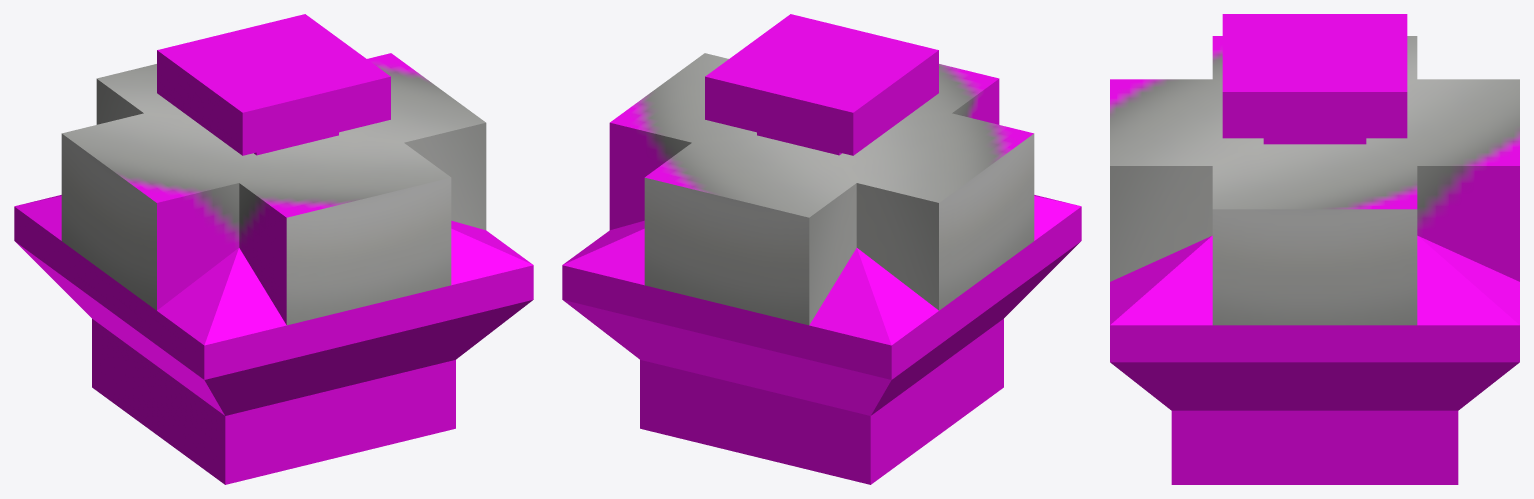
The model's file is fluid_drier.obj.
The picture shows the model from 3 angles, left to right: view 1: azimuth 30°, elevation 25°; view 2: azimuth 150°, elevation 25°; view 3: azimuth 270°, elevation 25°; orthographic projection. The views are drawn at different scales.
Visible parts, largest first — view 1: Chute_cchmdl, FlangePZ_pfmdl; view 2: Chute_cchmdl, FlangePZ_pfmdl; view 3: Chute_cchmdl, FlangePZ_pfmdl.
Boxes of the visible parts, x1=… form: Chute_cchmdl: x1=14, y1=53, x2=533, y2=484; FlangePZ_pfmdl: x1=157, y1=14, x2=390, y2=155; Chute_cchmdl: x1=562, y1=53, x2=1081, y2=484; FlangePZ_pfmdl: x1=705, y1=14, x2=938, y2=155; Chute_cchmdl: x1=1110, y1=36, x2=1519, y2=484; FlangePZ_pfmdl: x1=1222, y1=14, x2=1407, y2=144.
Size of the model in its own units: 1 by 1 by 1.
